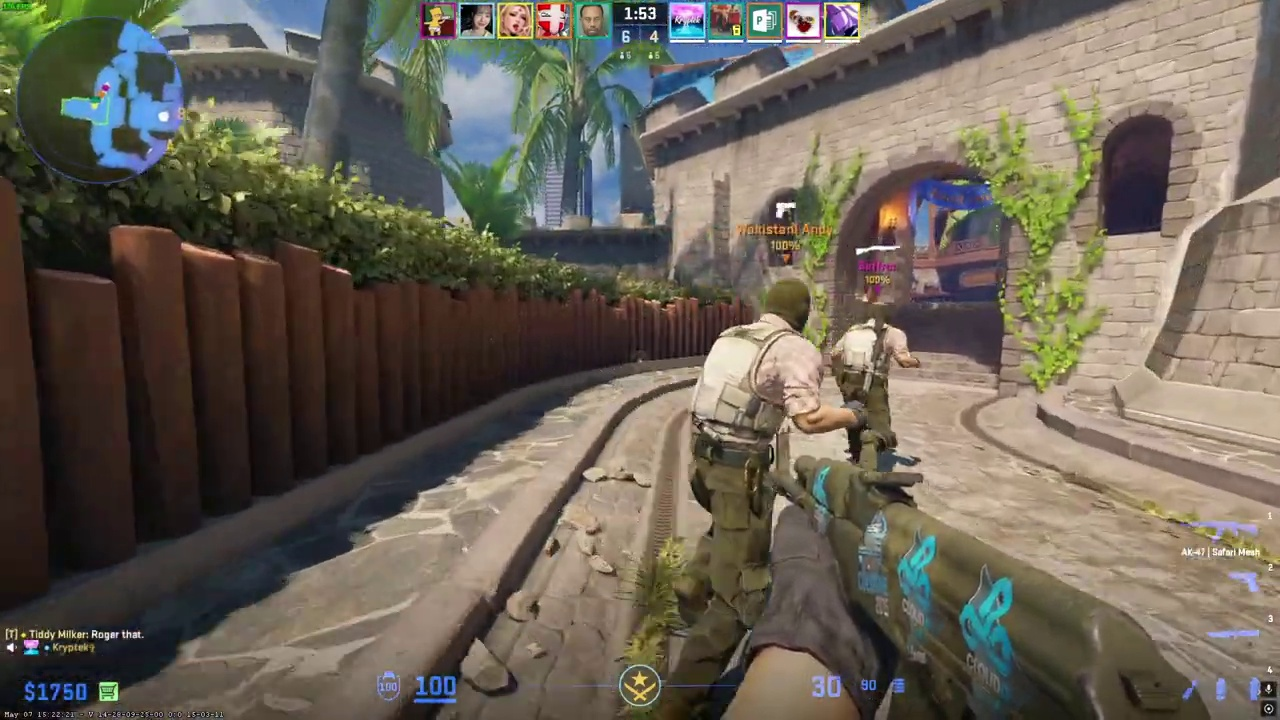Terrorist: (677, 272, 829, 616), (828, 299, 911, 469)
